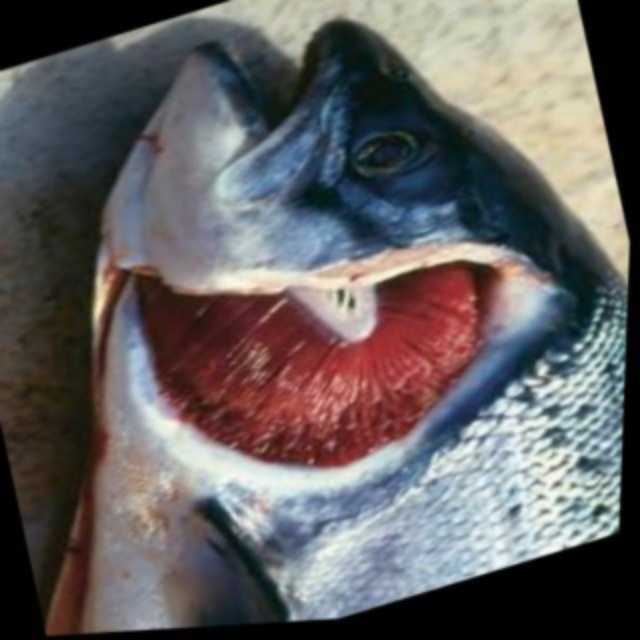Gill Disease: (67, 125, 628, 535)
